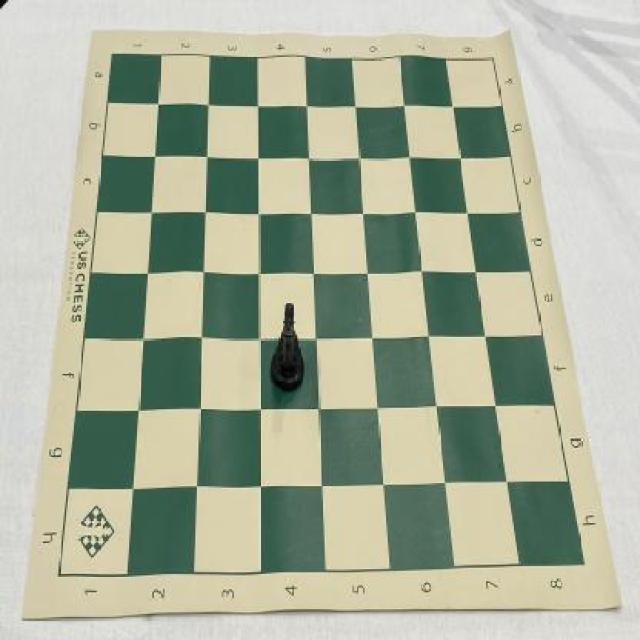black-king: (270, 302, 306, 393)
